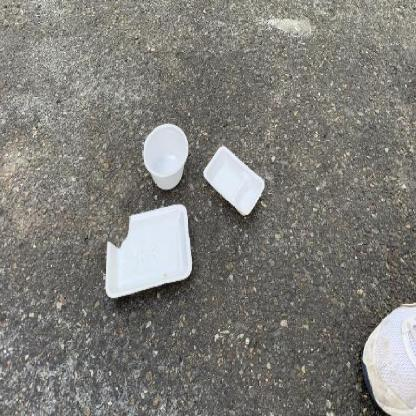Glass Cup: (104, 204, 192, 298), (105, 204, 192, 298), (204, 146, 264, 219), (204, 146, 265, 215), (141, 123, 189, 191), (142, 123, 189, 189)
